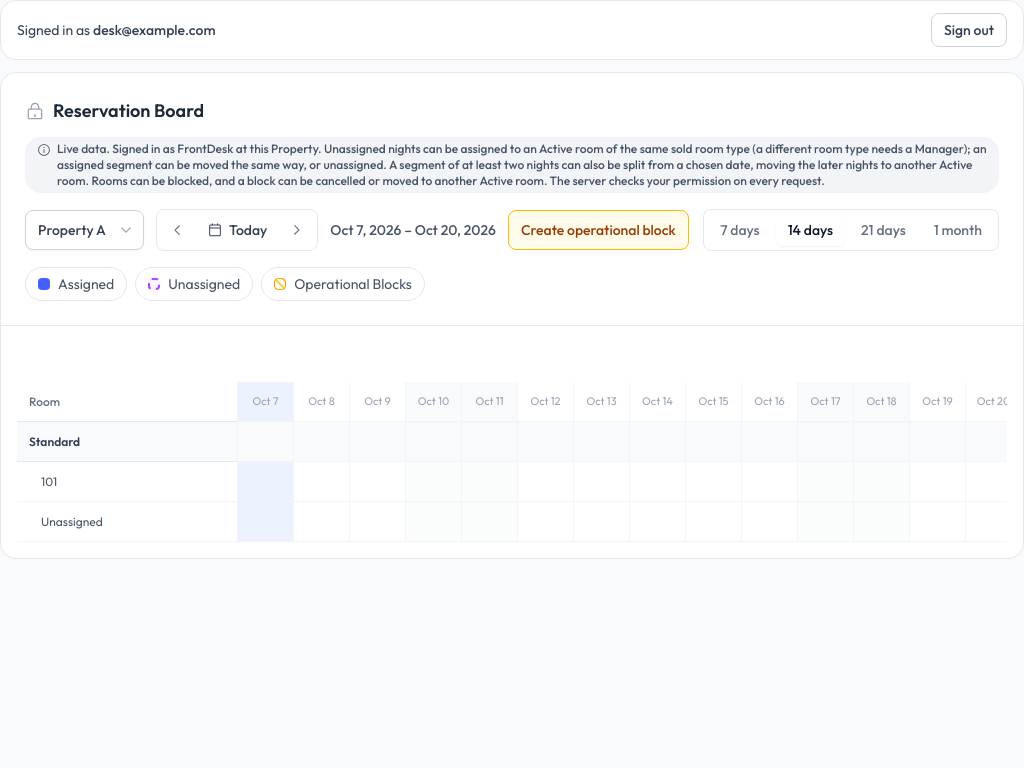
it: CalendarAccessGate › Sign out: an unconfirmed logout says so and keeps the session as it is
Click the button "Sign out": (969, 30) [931, 13, 1007, 47]
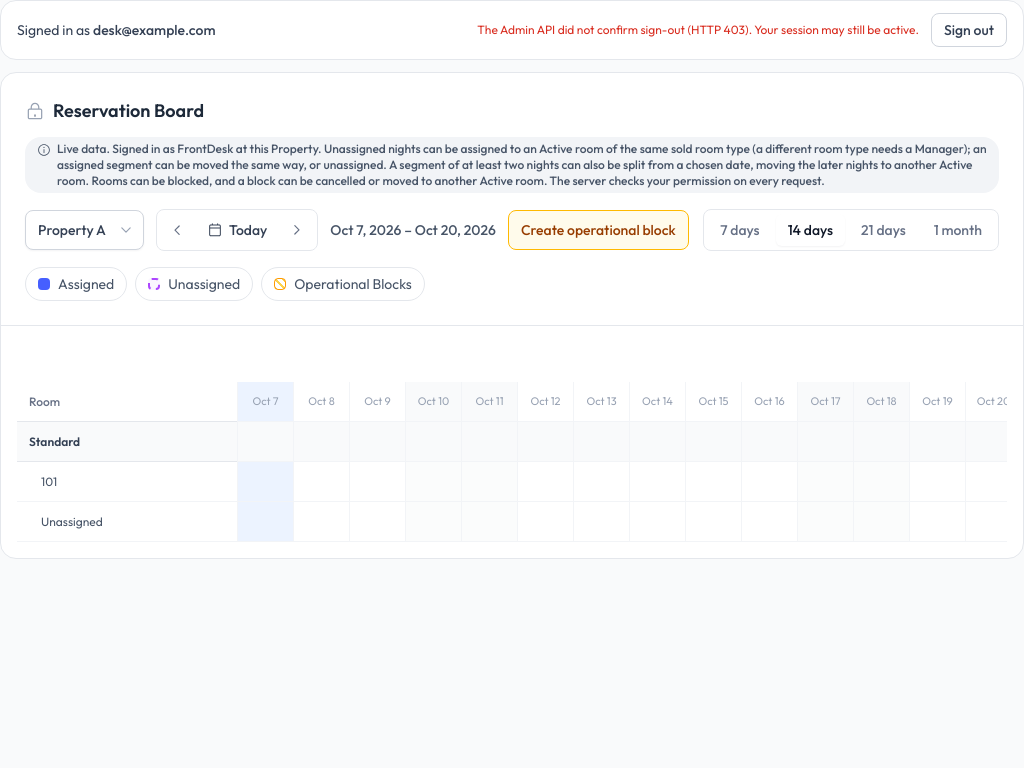
Result: the 1st message shows "did not confirm sign-out" at [477, 22, 919, 37]
